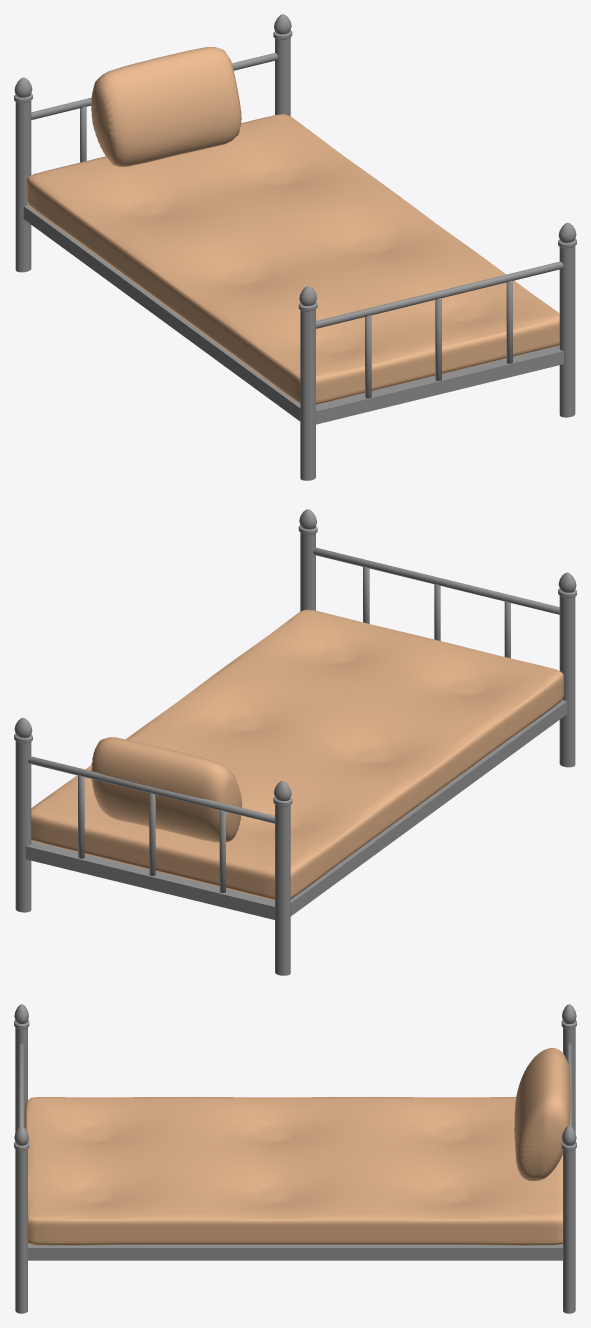
The model's file is bed_tier1 (3).fbx.
3 views of the same model, one above another, from view 1: azimuth 30°, elevation 25°; view 2: azimuth 150°, elevation 25°; view 3: azimuth 270°, elevation 25° (orthographic). The views are drawn at different scales.
Parts seen in each view (by area): view 1: Cube.001, Cylinder.012, Cube, Cylinder.006, Cylinder.007, Cylinder.001, Cylinder.005, Cylinder, Cylinder.004; view 2: Cube.001, Cylinder.012, Cube, Cylinder, Cylinder.001, Cylinder.007, Cylinder.005, Cylinder.004, Cylinder.006; view 3: Cube.001, Cube, Cylinder.012, Cylinder, Cylinder.006, Cylinder.007, Cylinder.001, Cylinder.005.
Part boxes in pixels (x1,y1,x2,y2): Cube.001: [26, 114, 559, 404]; Cylinder.012: [91, 47, 241, 166]; Cube: [23, 205, 563, 424]; Cylinder.006: [558, 222, 576, 417]; Cylinder.007: [298, 286, 317, 480]; Cylinder.001: [14, 77, 32, 272]; Cylinder.005: [316, 261, 563, 328]; Cylinder: [273, 14, 292, 116]; Cylinder.004: [31, 53, 278, 119]; Cube.001: [31, 609, 563, 900]; Cylinder.012: [91, 737, 242, 842]; Cube: [25, 700, 567, 920]; Cylinder: [14, 717, 32, 912]; Cylinder.001: [273, 781, 292, 975]; Cylinder.007: [558, 572, 576, 767]; Cylinder.005: [313, 547, 559, 614]; Cylinder.004: [28, 756, 274, 823]; Cylinder.006: [298, 509, 317, 611]; Cube.001: [24, 1097, 562, 1245]; Cube: [27, 1127, 573, 1260]; Cylinder.012: [514, 1048, 570, 1181]; Cylinder: [561, 1126, 576, 1313]; Cylinder.006: [14, 1126, 29, 1313]; Cylinder.007: [14, 1004, 29, 1132]; Cylinder.001: [561, 1004, 576, 1132]; Cylinder.005: [18, 1043, 24, 1127].
Size of the model in its own units: 197 by 131 by 361.
